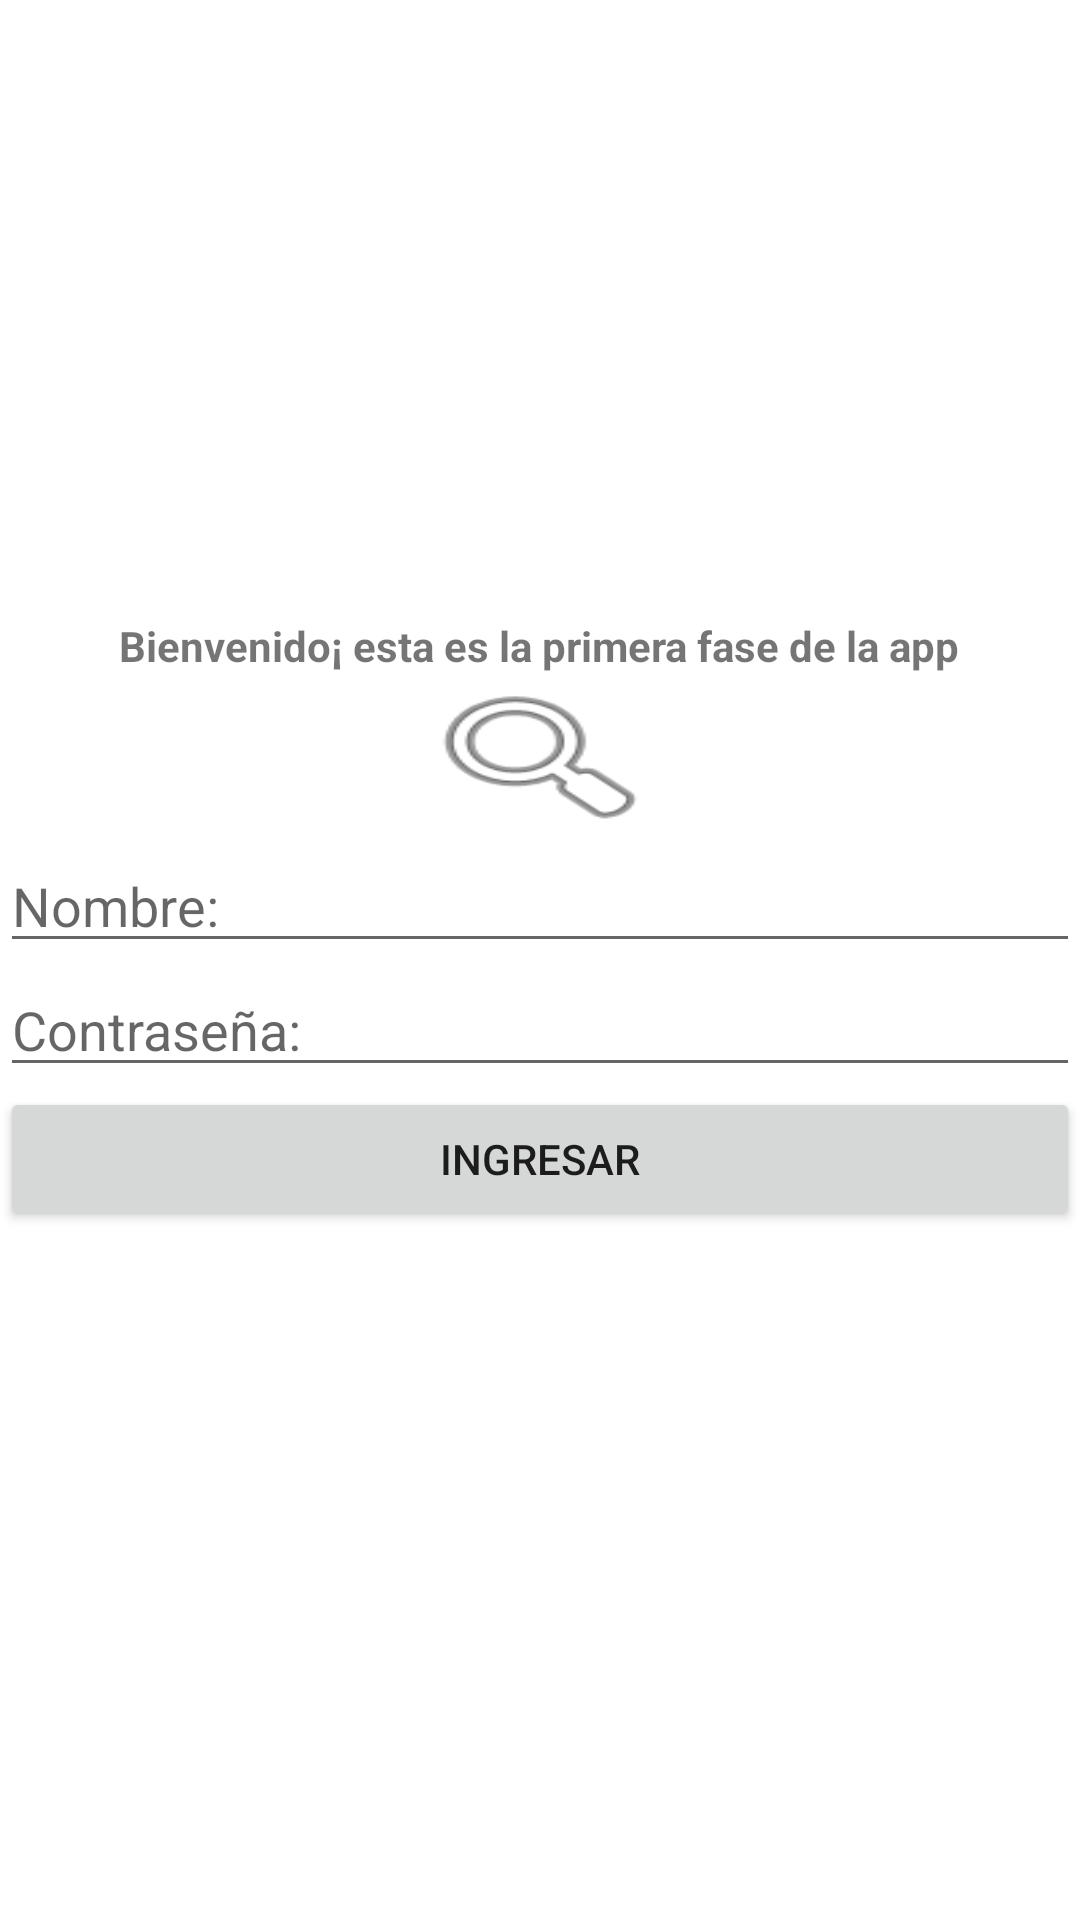

Named icons in this screenshot (1080w x 1920h) and their centers, [x,y]:
search: [540,757]
